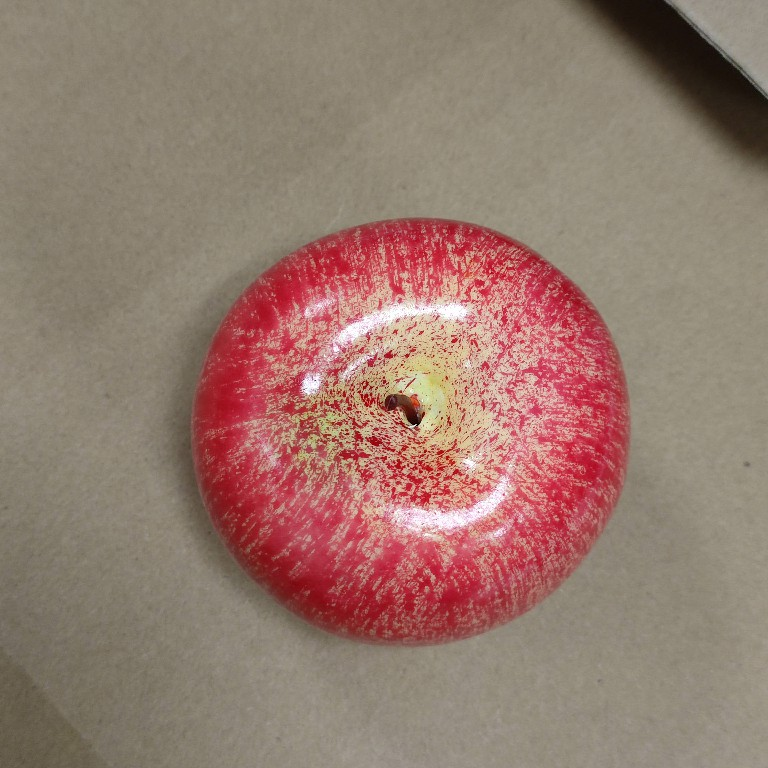fruit_apple: (185, 211, 638, 654)
